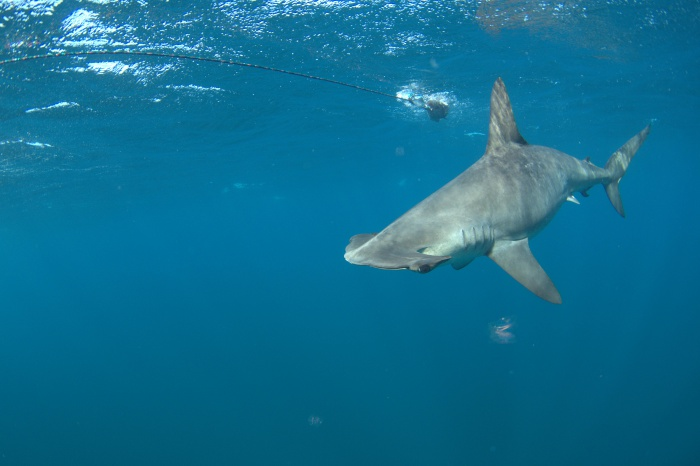Hammer: (334, 55, 673, 315)
